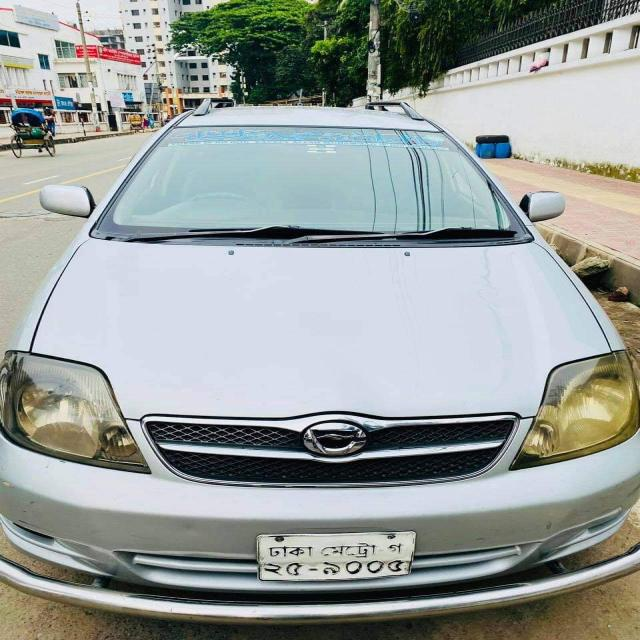silver: (17, 87, 640, 608)
